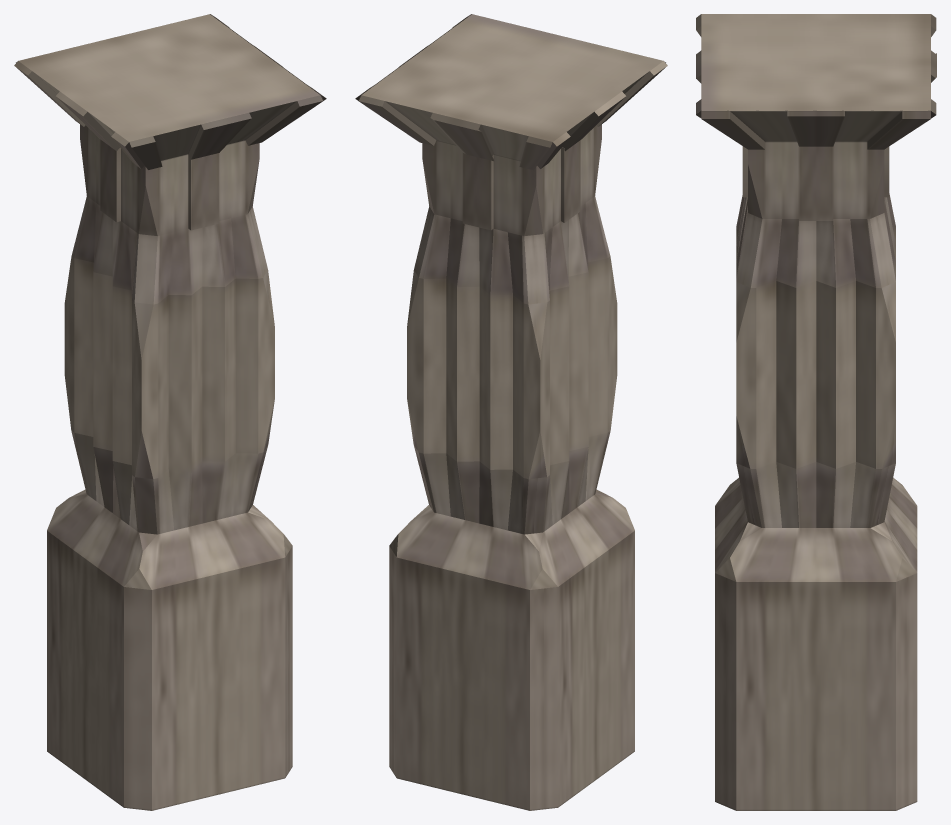
The model's file is column01.fbx.
3 renders of one model, left to right at view 1: azimuth 30°, elevation 25°; view 2: azimuth 150°, elevation 25°; view 3: azimuth 270°, elevation 25°, orthographic. The views are drawn at different scales.
Visible parts, largest first — view 1: Cube; view 2: Cube; view 3: Cube.
Part boxes in pixels (bbox=[...]): Cube: bbox=[14, 14, 326, 810]; Cube: bbox=[355, 14, 667, 810]; Cube: bbox=[696, 14, 936, 810].
Bounding box in the file's own units: 213 × 685 × 212.
1 material, 1 textured.
